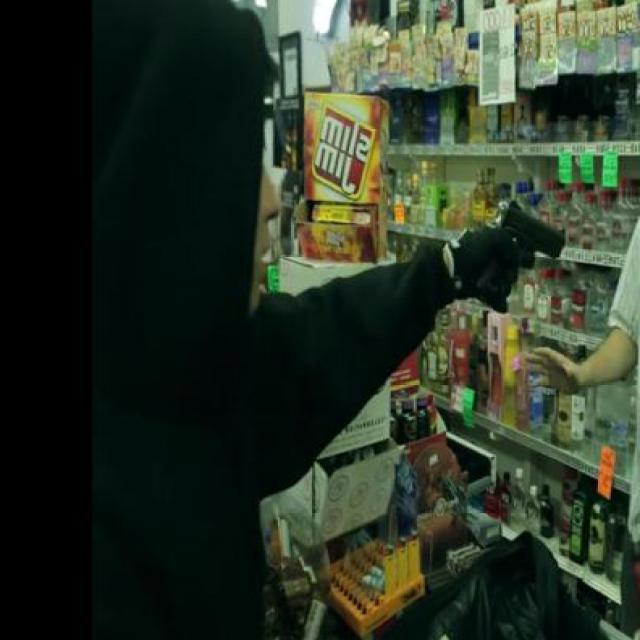Gun: (460, 192, 570, 312)
